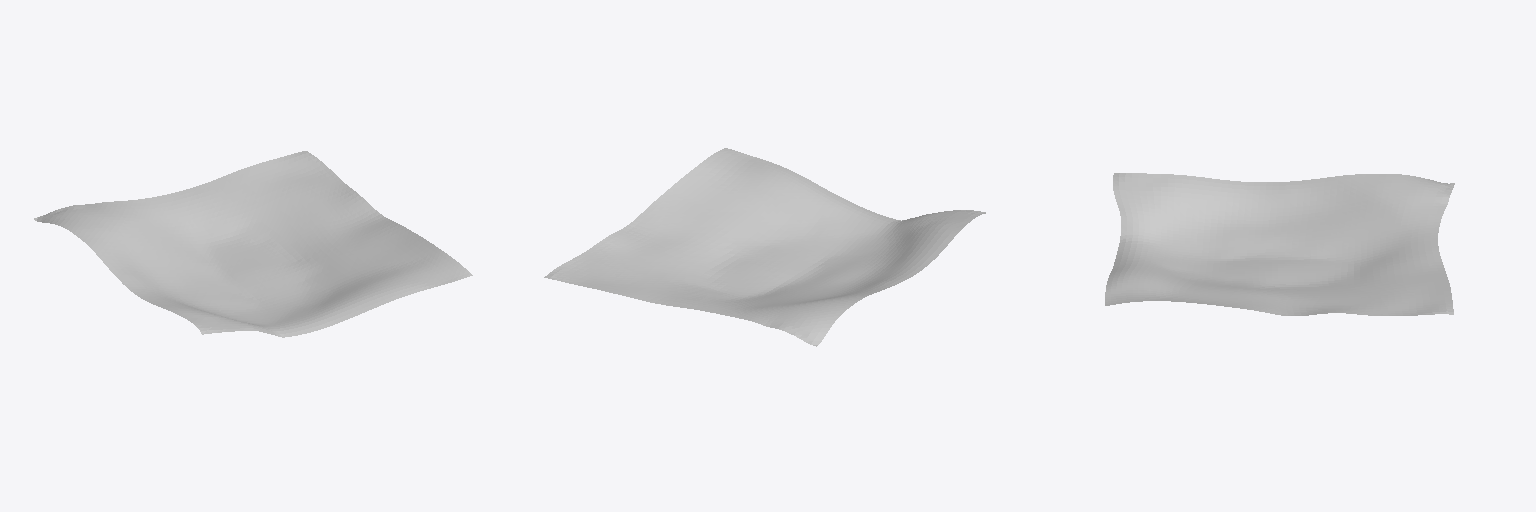
File: terrian.obj
3 views of the same model, side by side, from view 1: azimuth 30°, elevation 25°; view 2: azimuth 150°, elevation 25°; view 3: azimuth 270°, elevation 25° (orthographic).
Visible parts, largest first — view 1: Plane; view 2: Plane; view 3: Plane.
Boxes of the visible parts, x1=… form: Plane: x1=34, y1=151, x2=472, y2=337; Plane: x1=544, y1=148, x2=985, y2=346; Plane: x1=1105, y1=173, x2=1454, y2=315.
Bounding box in the file's own units: 519 × 64.03 × 570.